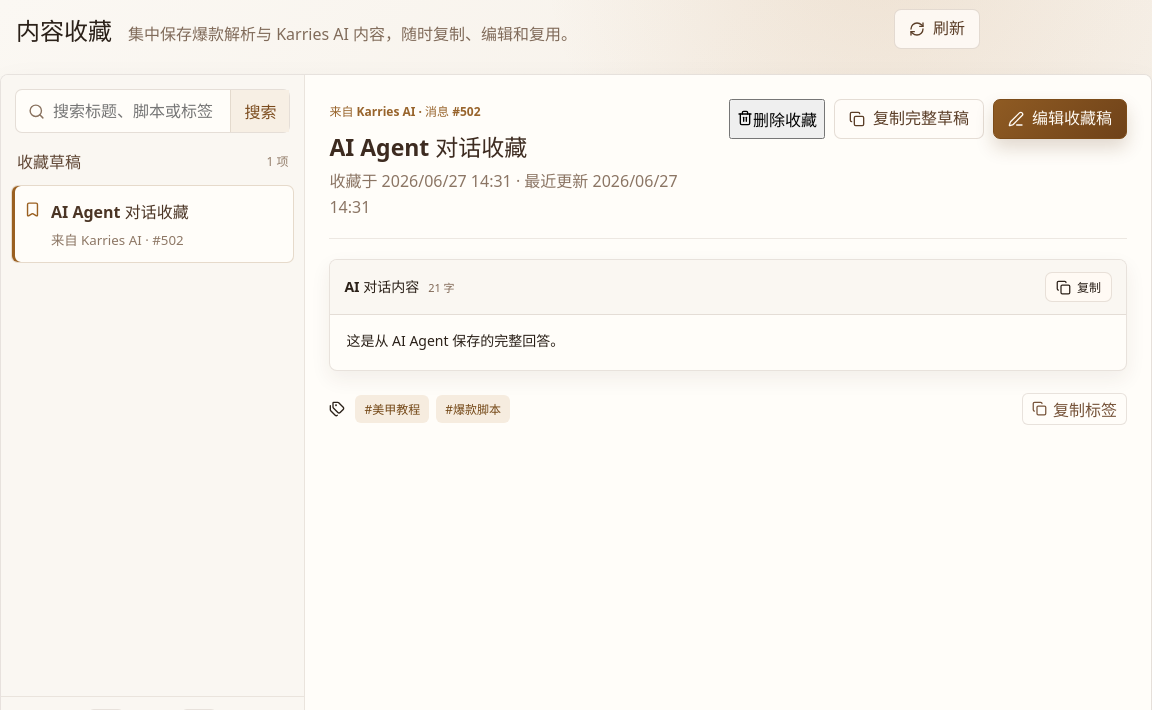
ContentCollectionPage › identifies AI Agent collections without presenting them as viral analysis
The width and height of the screenshot is (1152, 710).
Expected: the text "来自 Karries AI · 消息 #502" is shown, [329,103,481,120]
Expected: the heading "AI 对话内容" is shown, [344,278,419,297]
Click the button "编辑收藏稿" at [1060, 119], box [993,99,1127,139]
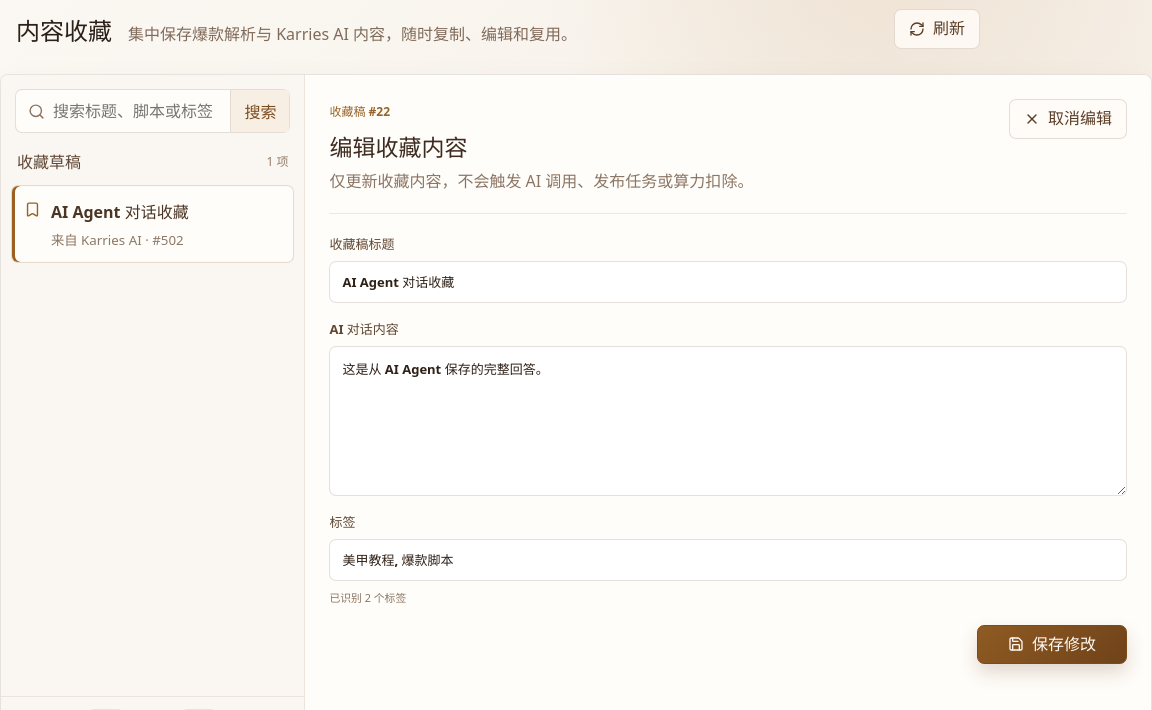
Expected: the text box labelled "AI 对话内容" holds "这是从 AI Agent 保存的完整回答。", [329,346,1127,496]
